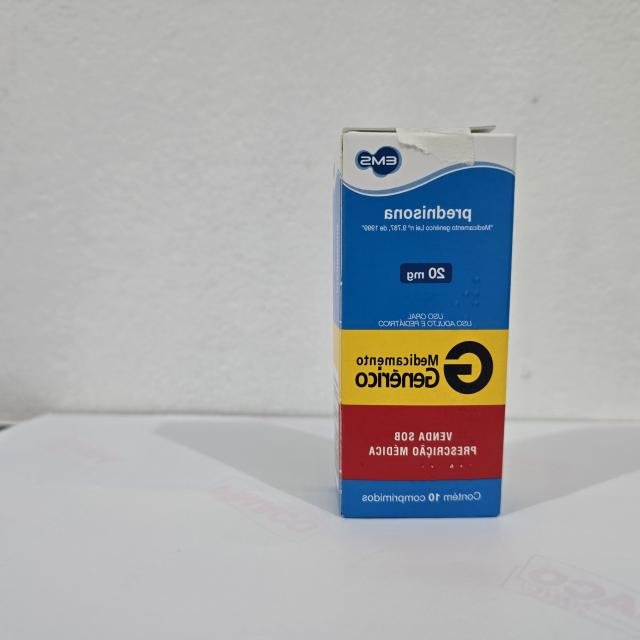prednisona: (330, 122, 520, 525)
